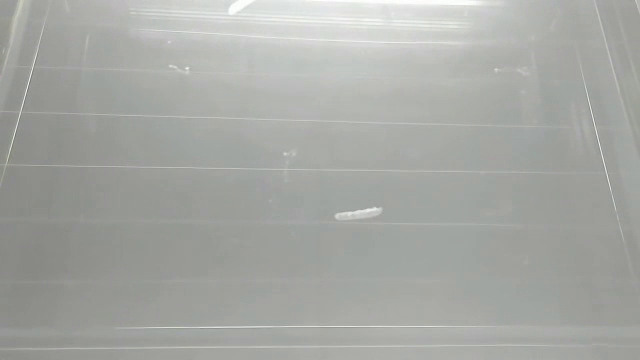alpha: (330, 203, 390, 226), (225, 1, 256, 18)
